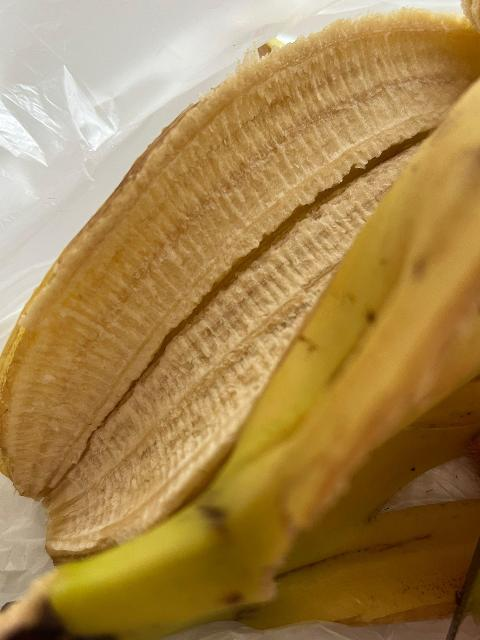Organik: (23, 181, 350, 539), (303, 11, 480, 627), (225, 53, 330, 623), (0, 544, 388, 640)
